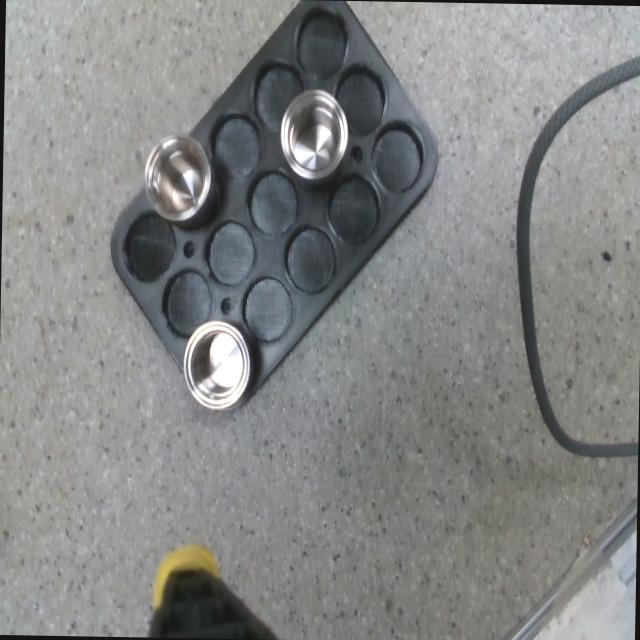sensor: (278, 89, 348, 181), (181, 318, 251, 409), (142, 134, 211, 223)
